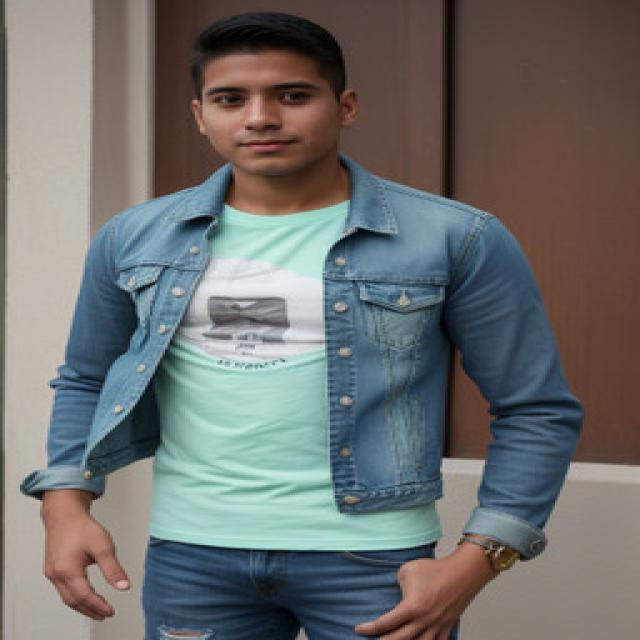Ai human 2: (26, 6, 585, 640)
